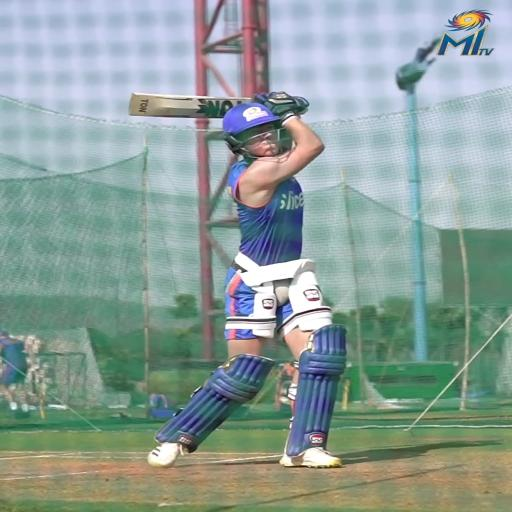Cricket bat: (128, 93, 251, 119)
